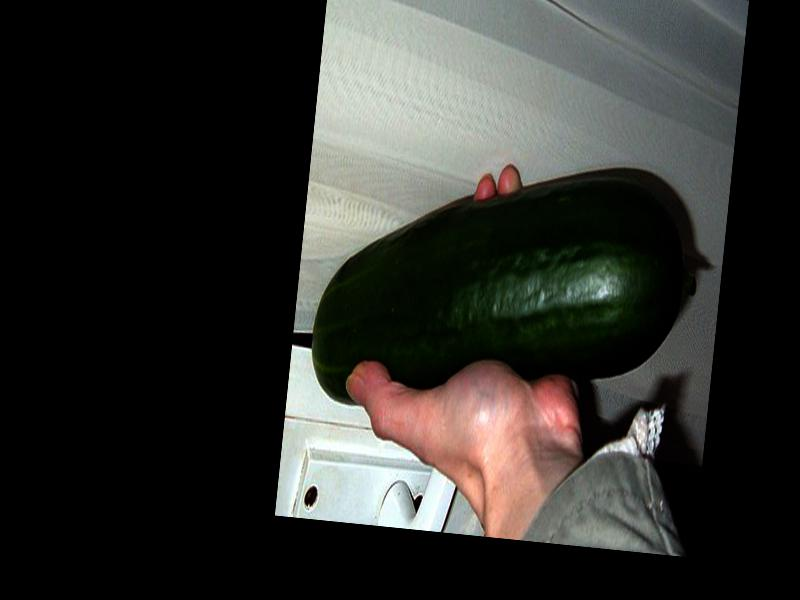Cucumber: (306, 139, 707, 436)
